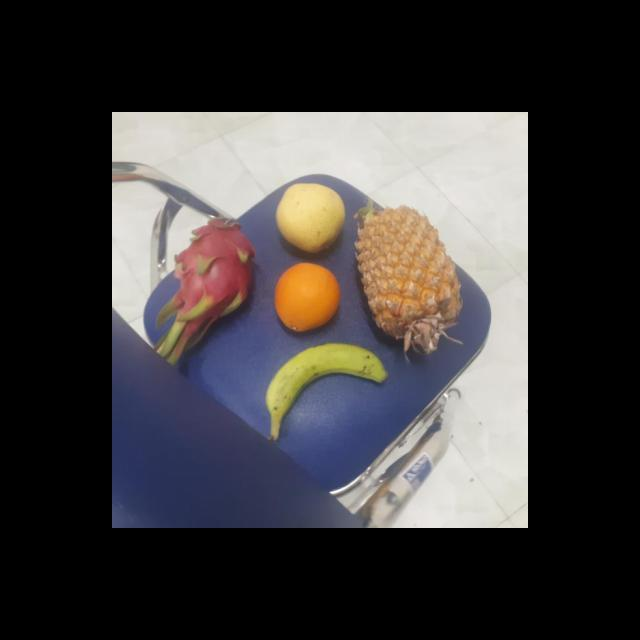banana: (264, 340, 386, 423)
orange: (271, 264, 341, 332)
pear: (272, 184, 346, 252)
pineapple: (350, 204, 460, 352)
pitaya: (170, 218, 256, 314)
